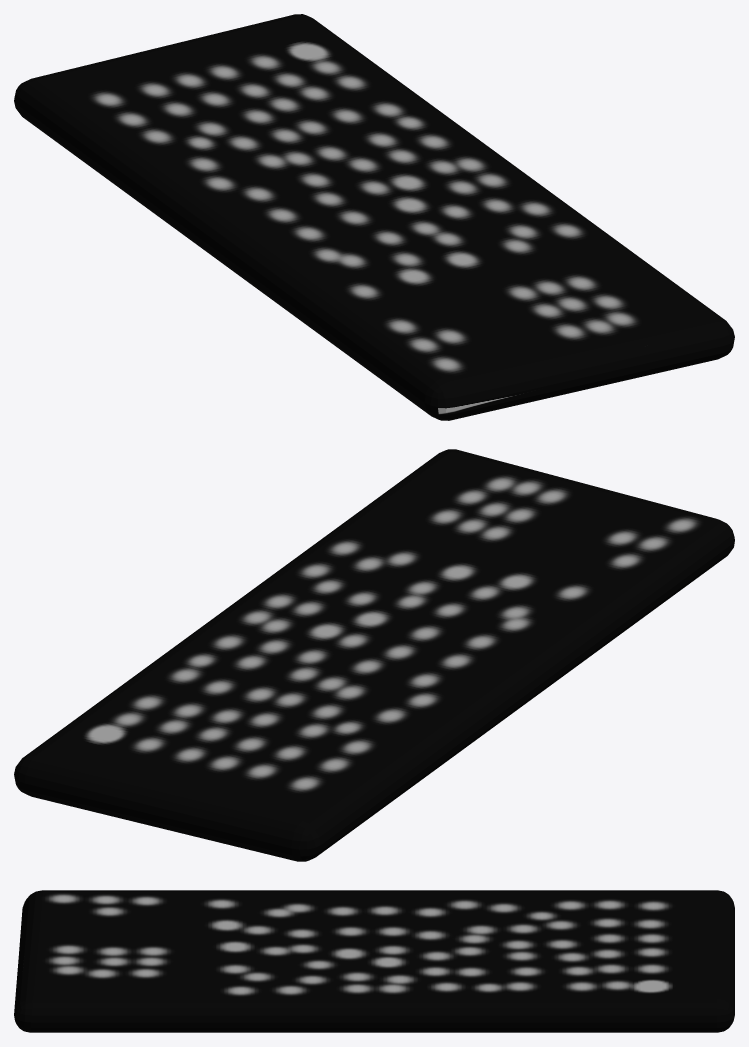
Rendered from Keyboard.glb.
3 views of the same model, one above another, from view 1: azimuth 30°, elevation 25°; view 2: azimuth 150°, elevation 25°; view 3: azimuth 270°, elevation 25° (orthographic). The views are drawn at different scales.
Visible parts, largest first — view 1: Cube; view 2: Cube; view 3: Cube.
Boxes of the visible parts, <box> form: Cube: <box>14,14,734,420</box>; Cube: <box>14,449,734,861</box>; Cube: <box>14,890,734,1032</box>.
Bounding box in the file's own units: 1.11 × 0.1375 × 2.77.
1 material, 1 textured.
